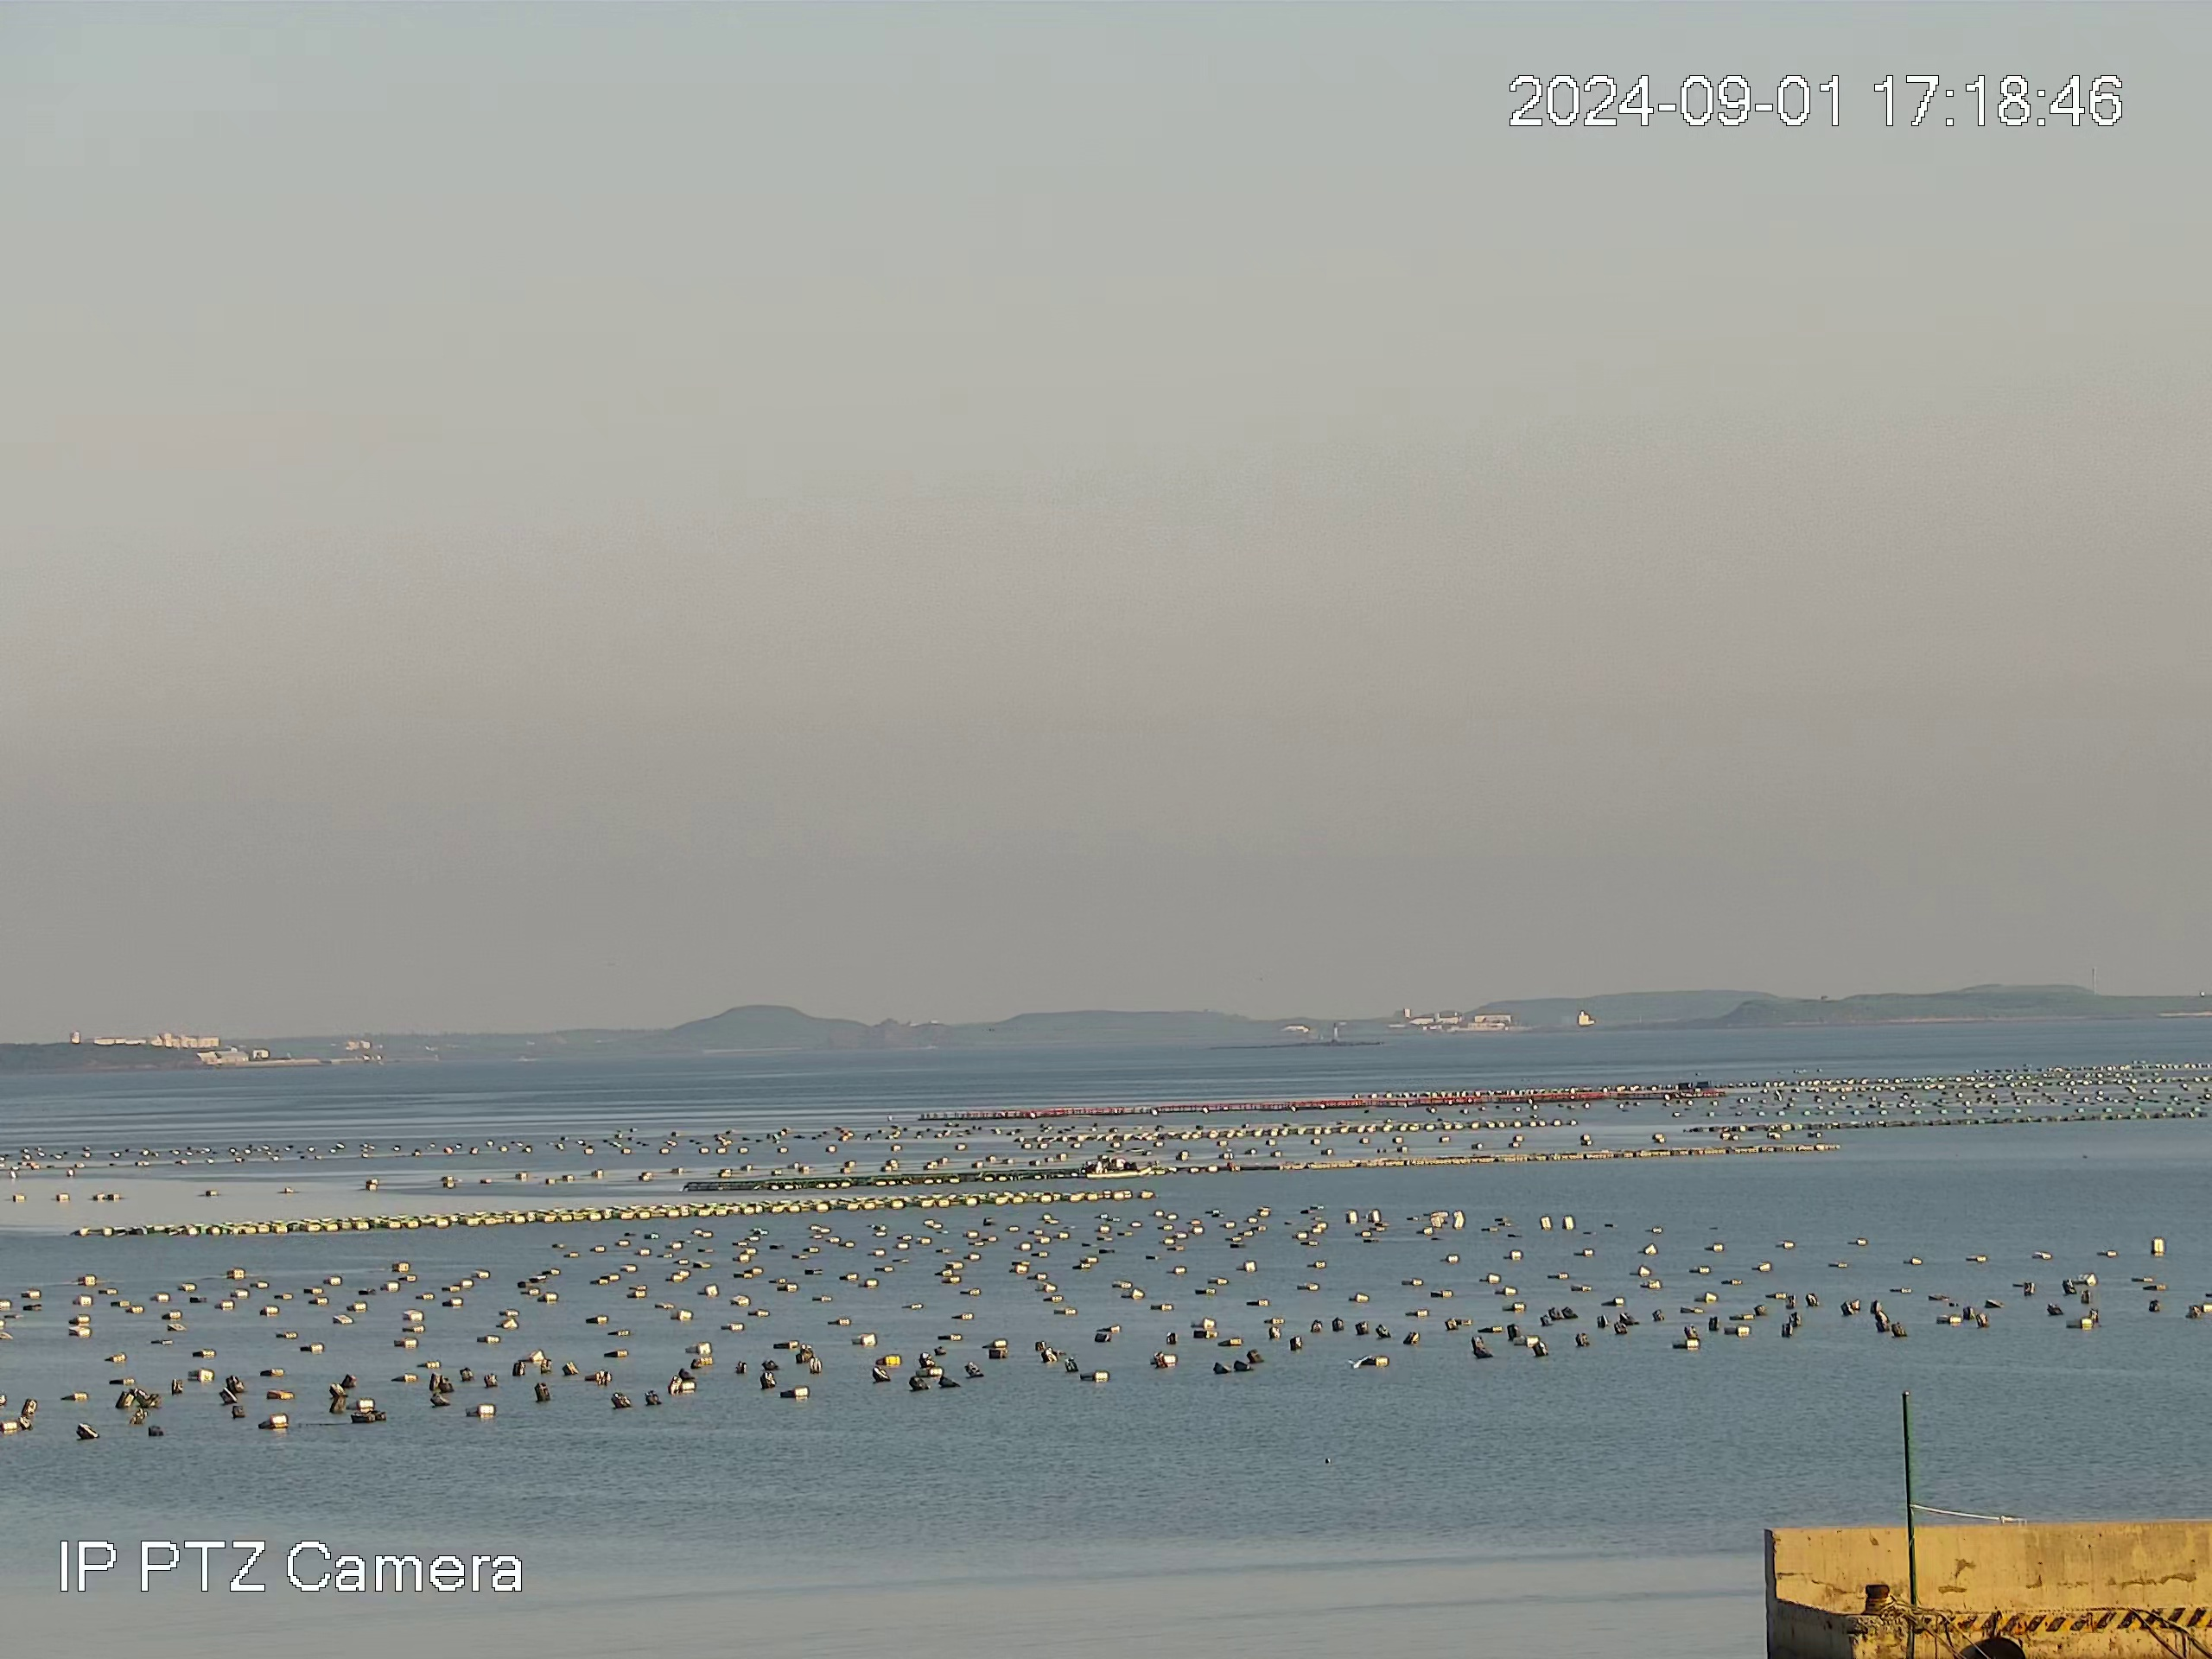boat: (1083, 1148, 1153, 1176)
